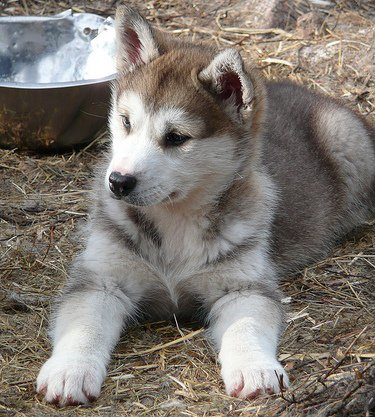husky: (29, 7, 296, 410)
